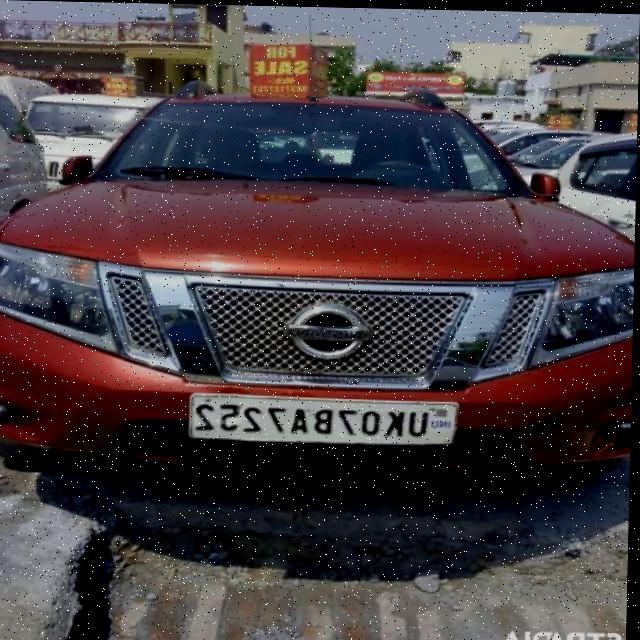plate: (190, 391, 464, 445)
